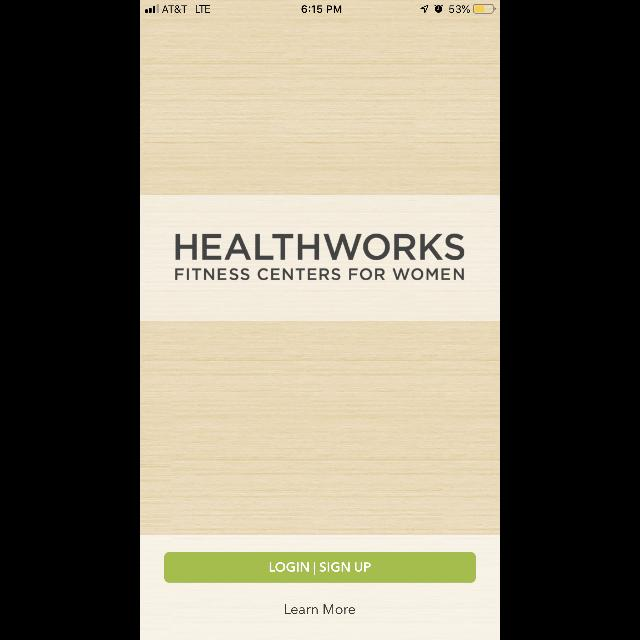text: (176, 233, 464, 260), (176, 268, 464, 280), (285, 604, 355, 614)
textbutton: (164, 552, 476, 582)
uppertaskbar: (140, 0, 500, 14)
